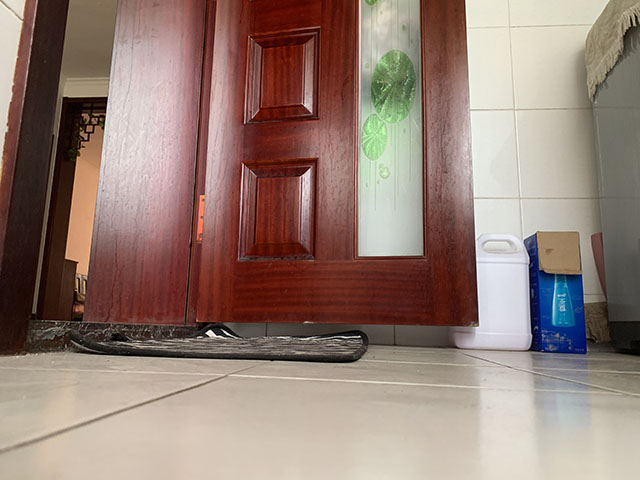carpet: (64, 322, 369, 364)
